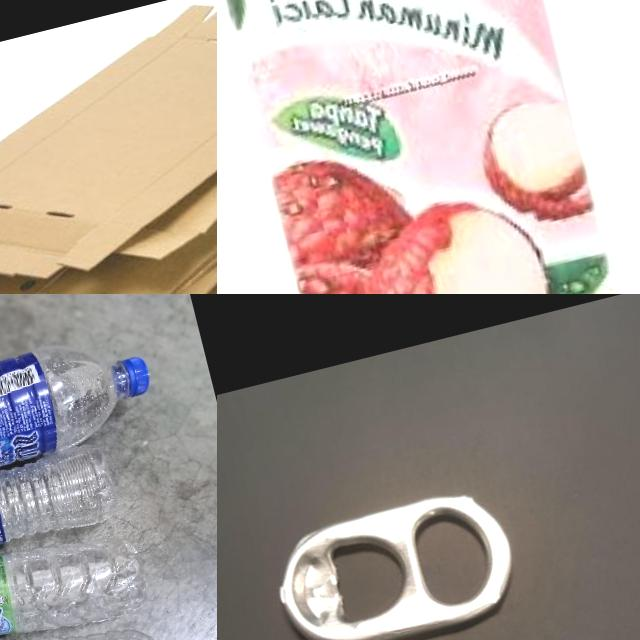aba de lata: (266, 477, 526, 640)
caixinha: (217, 0, 633, 294)
garrafa plástica: (0, 329, 141, 522), (0, 515, 151, 640), (0, 439, 122, 573)
papelão: (0, 0, 217, 294)
tampa plástica: (119, 354, 153, 396)
